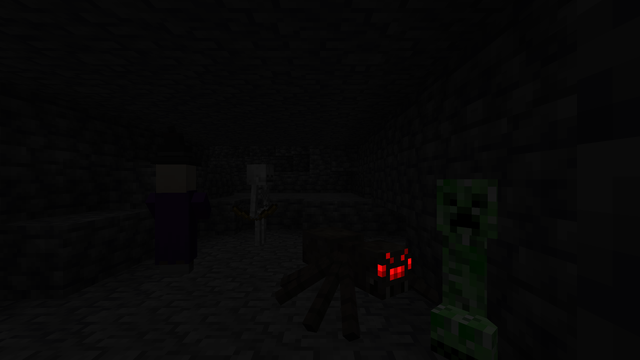araignees: (301, 224, 417, 328)
creepers: (430, 170, 495, 356)
sorcieres: (148, 159, 201, 278)
squelettes: (245, 164, 274, 246)
